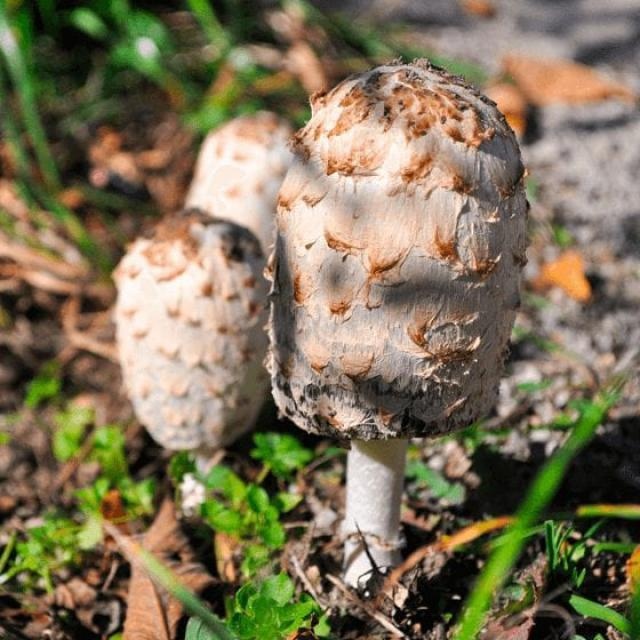Coprinus comatus: (271, 67, 520, 549), (117, 208, 270, 490)
